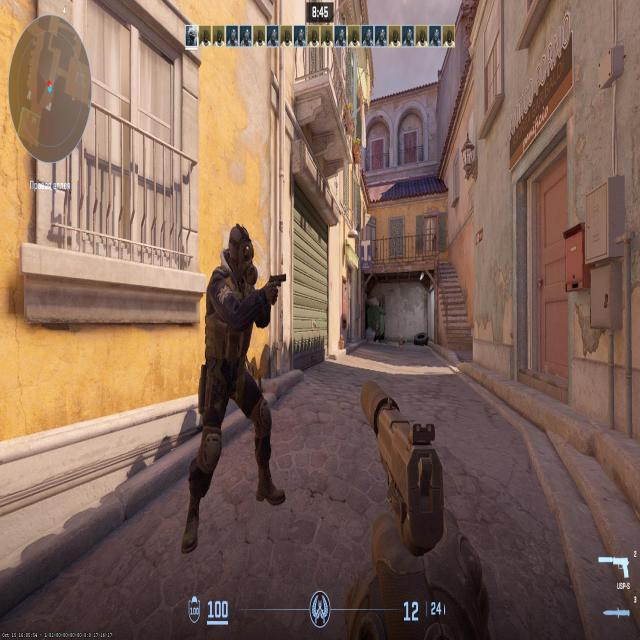CT: (224, 230, 258, 440)
CT_heat: (229, 240, 241, 266)
